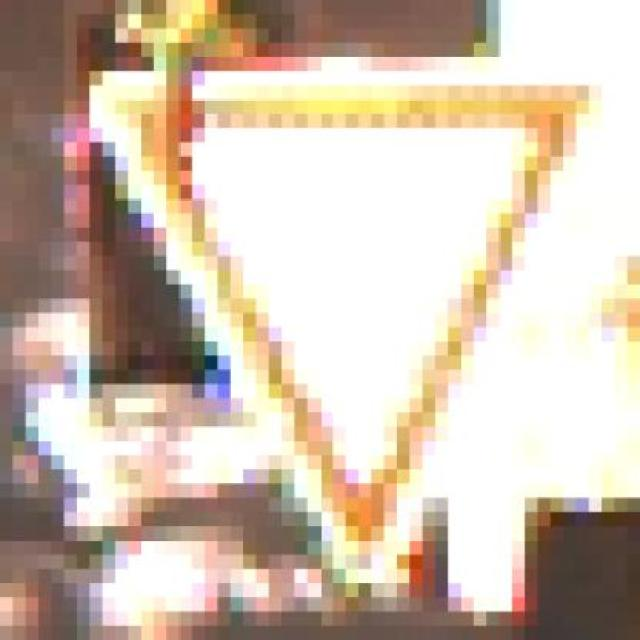Give Way: (64, 43, 550, 569)
